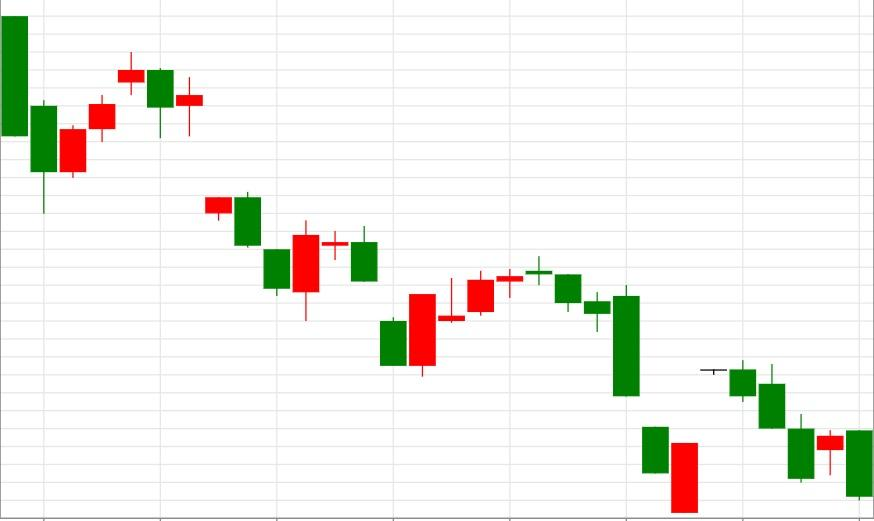bullish_engulfing_rise: (263, 219, 437, 376)
three_white_soldiers_rise: (0, 15, 146, 215)
